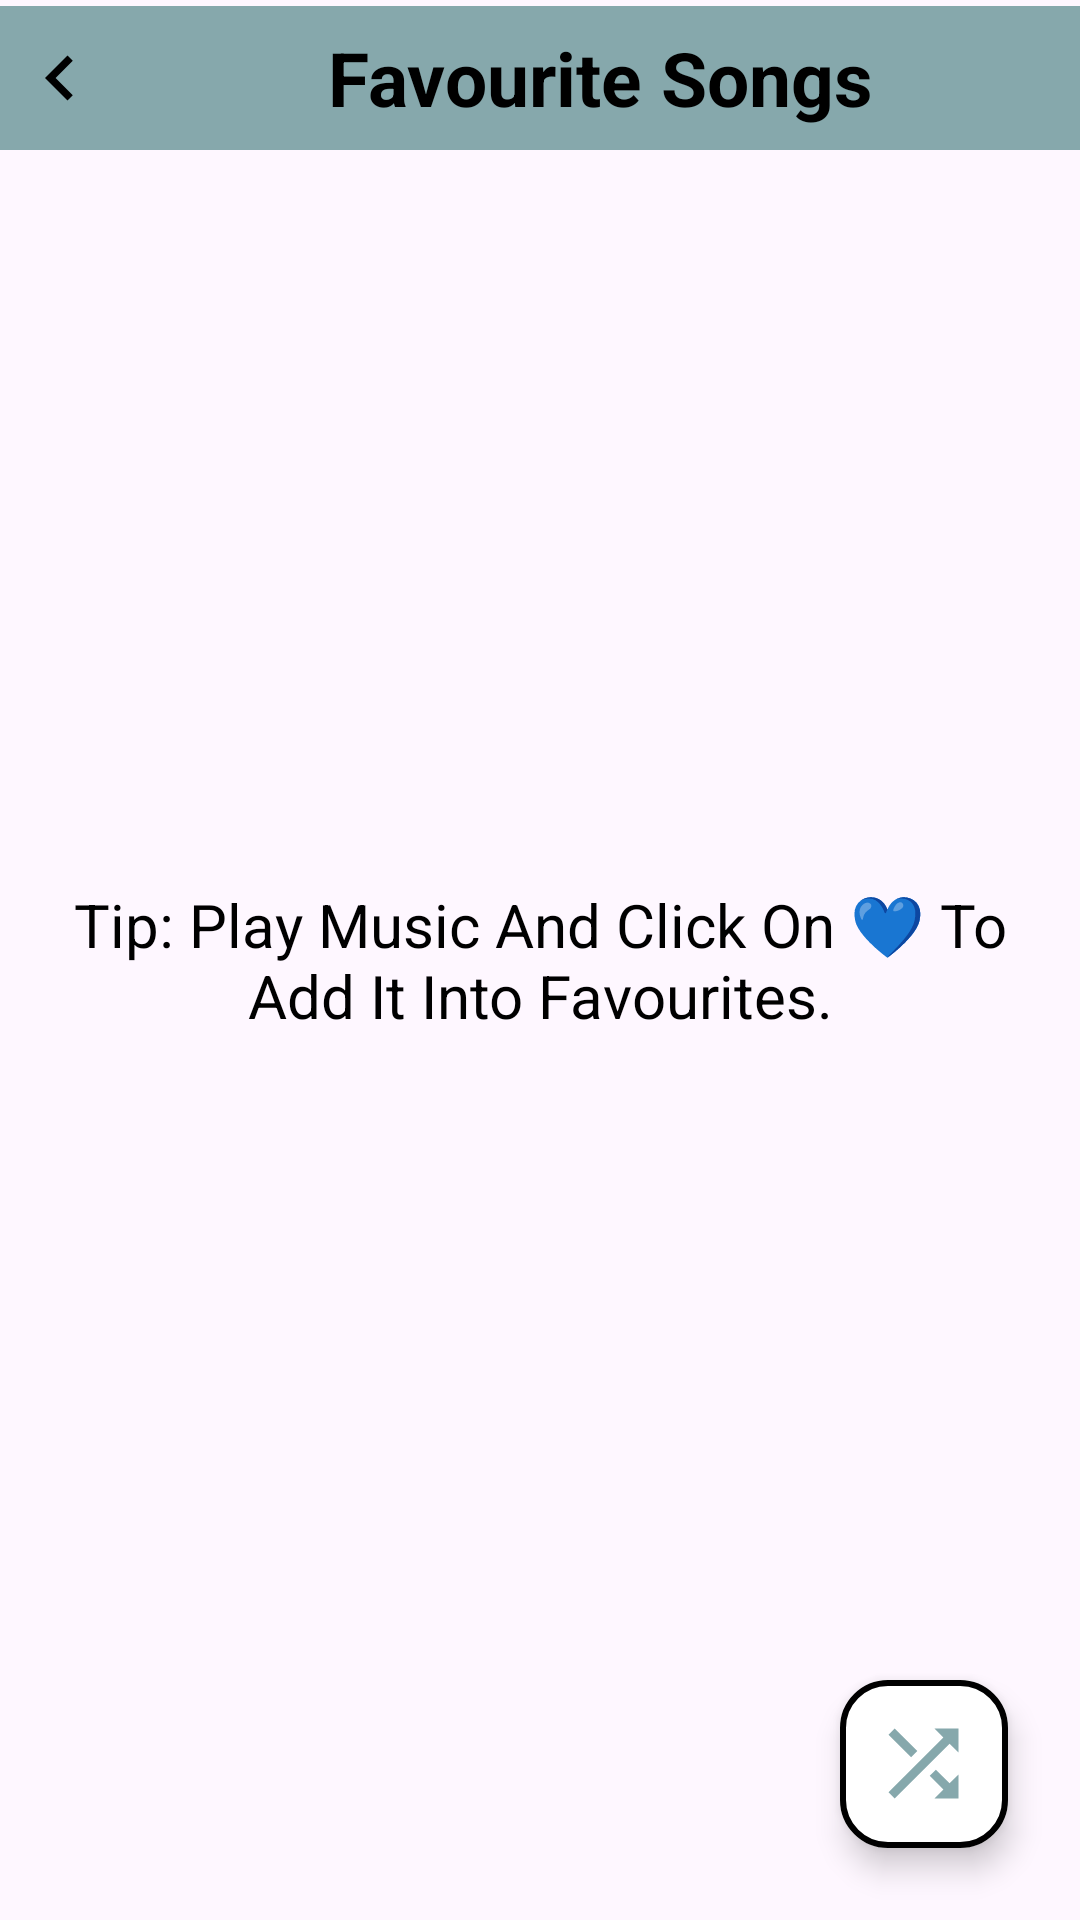

Named icons in this screenshot (1080 × 1920) and their bounding boxes, (left=x1, top=y1, right=x2, bottom=y2):
back PA: (left=45, top=55, right=73, bottom=101)
shuffle: (left=840, top=1680, right=1008, bottom=1848)
